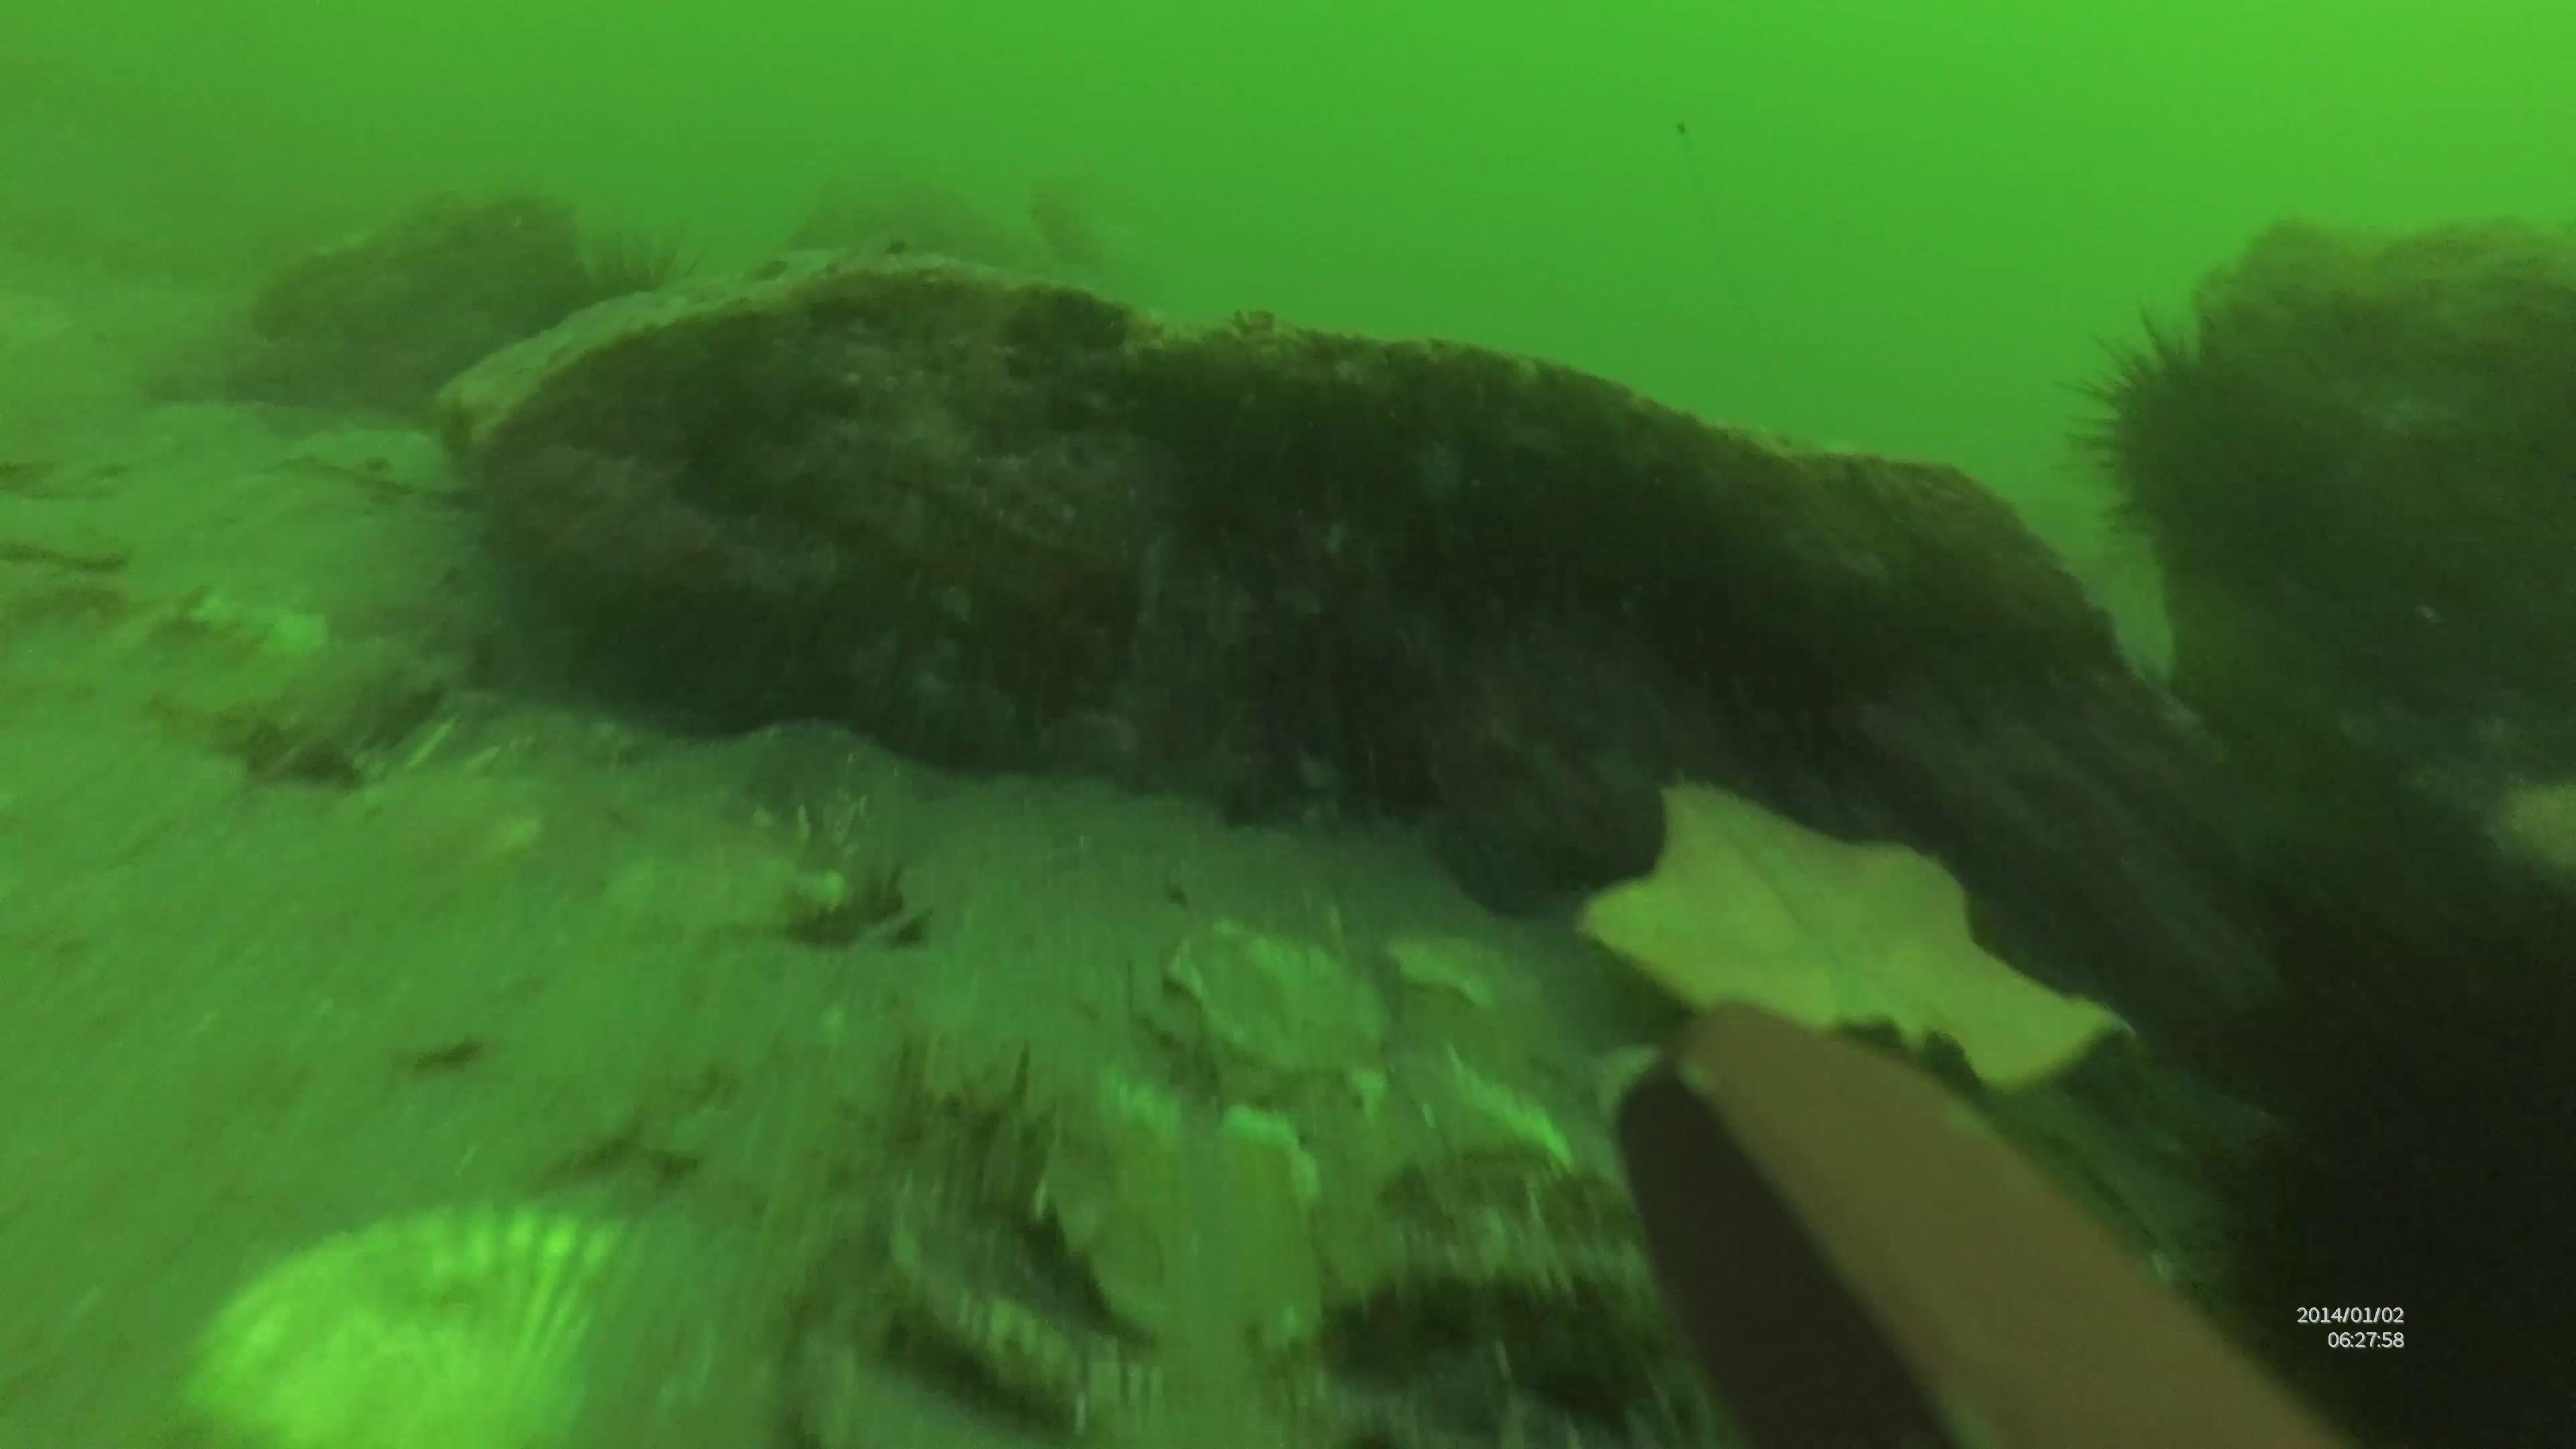echinus: (2201, 991, 2572, 1440), (2065, 303, 2357, 594), (506, 219, 715, 407)
holothurian: (184, 616, 478, 789)
scallop: (179, 1185, 653, 1444)
starfish: (1575, 771, 2128, 1104)
